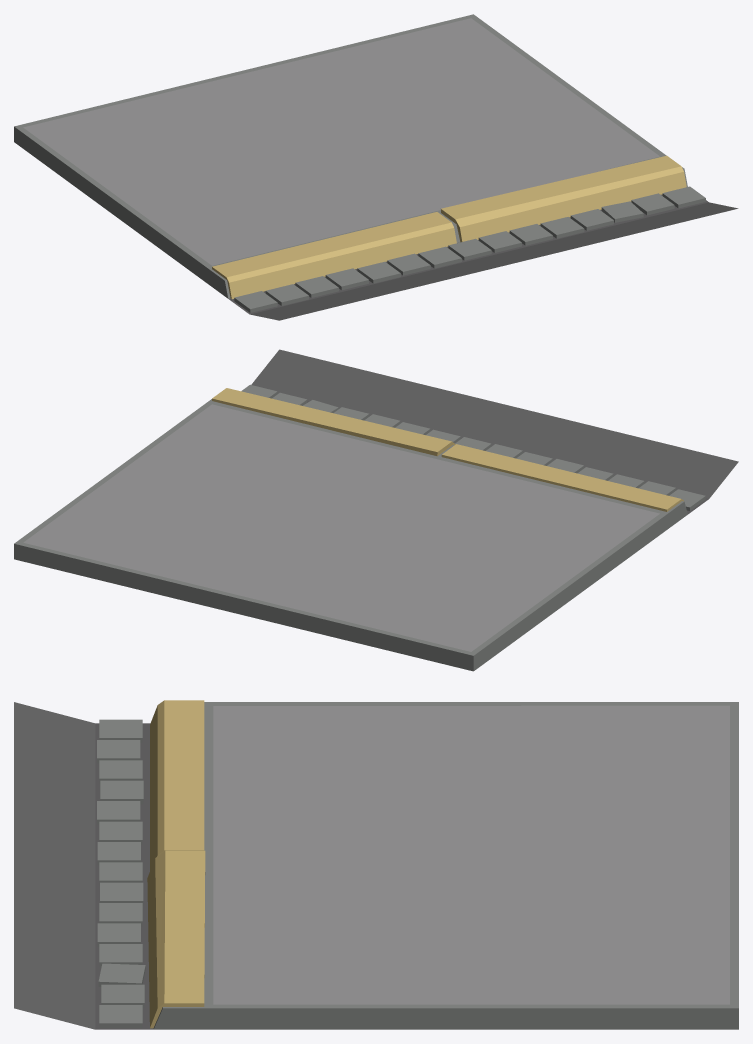
The model's file is SM_sidewalk_01.glb.
The picture shows the model from 3 angles, top to bottom: view 1: azimuth 30°, elevation 25°; view 2: azimuth 150°, elevation 25°; view 3: azimuth 270°, elevation 25°; orthographic projection. The views are drawn at different scales.
Visible parts, largest first — view 1: SM_sidewalk_01; view 2: SM_sidewalk_01; view 3: SM_sidewalk_01.
Part boxes in pixels (x1,y1,x2,y2): SM_sidewalk_01: [14, 14, 738, 320]; SM_sidewalk_01: [14, 349, 738, 671]; SM_sidewalk_01: [14, 700, 738, 1029].
Bounding box in the file's own units: 4 × 0.1651 × 4.
1 material, 1 textured.
